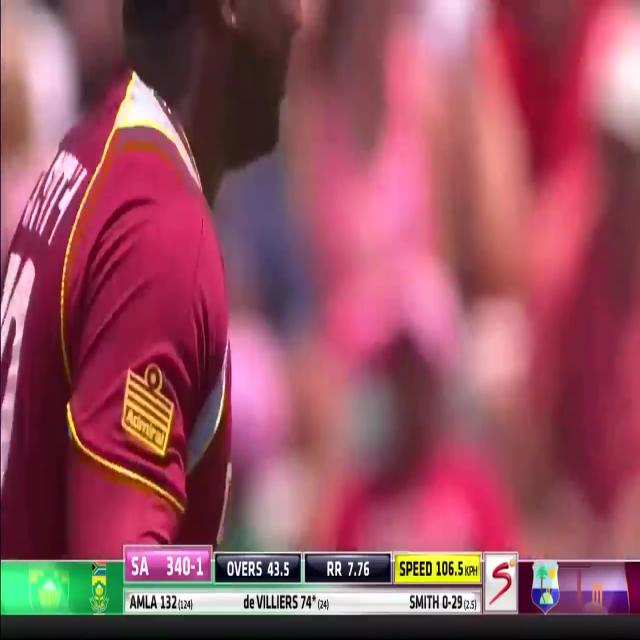Fielder: (0, 2, 357, 556)
